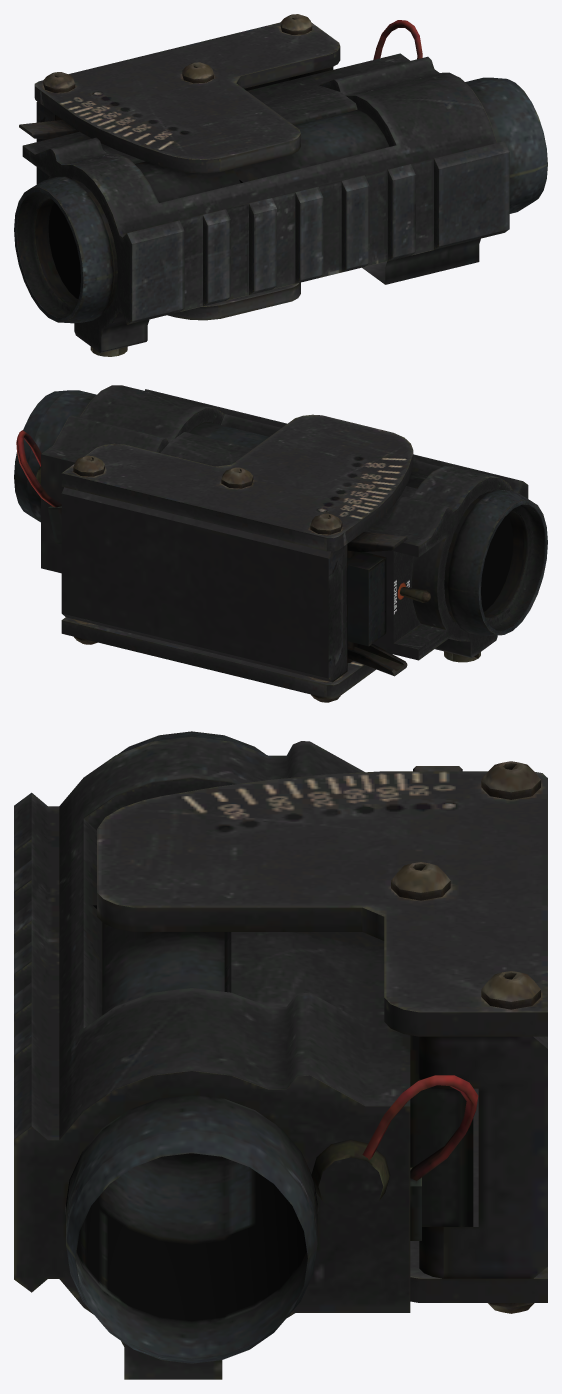
The model's file is t6_attach_optic_m32_view_LOD0.obj.
The picture shows the model from 3 angles, top to bottom: view 1: azimuth 30°, elevation 25°; view 2: azimuth 150°, elevation 25°; view 3: azimuth 270°, elevation 25°; orthographic projection. The views are drawn at different scales.
Visible parts, largest first — view 1: mtl_t6_wpn_launch_m32, mtl_t6_attach_optic_m32_lens; view 2: mtl_t6_wpn_launch_m32, mtl_t6_attach_optic_m32_lens; view 3: mtl_t6_wpn_launch_m32.
Part boxes in pixels (x1,y1,x2,y2): mtl_t6_wpn_launch_m32: [14, 14, 547, 356]; mtl_t6_attach_optic_m32_lens: [48, 202, 80, 298]; mtl_t6_wpn_launch_m32: [14, 385, 547, 702]; mtl_t6_attach_optic_m32_lens: [481, 515, 513, 611]; mtl_t6_wpn_launch_m32: [14, 731, 547, 1379].
Bounding box in the file's own units: 9.5 × 3.8 × 5.19.
